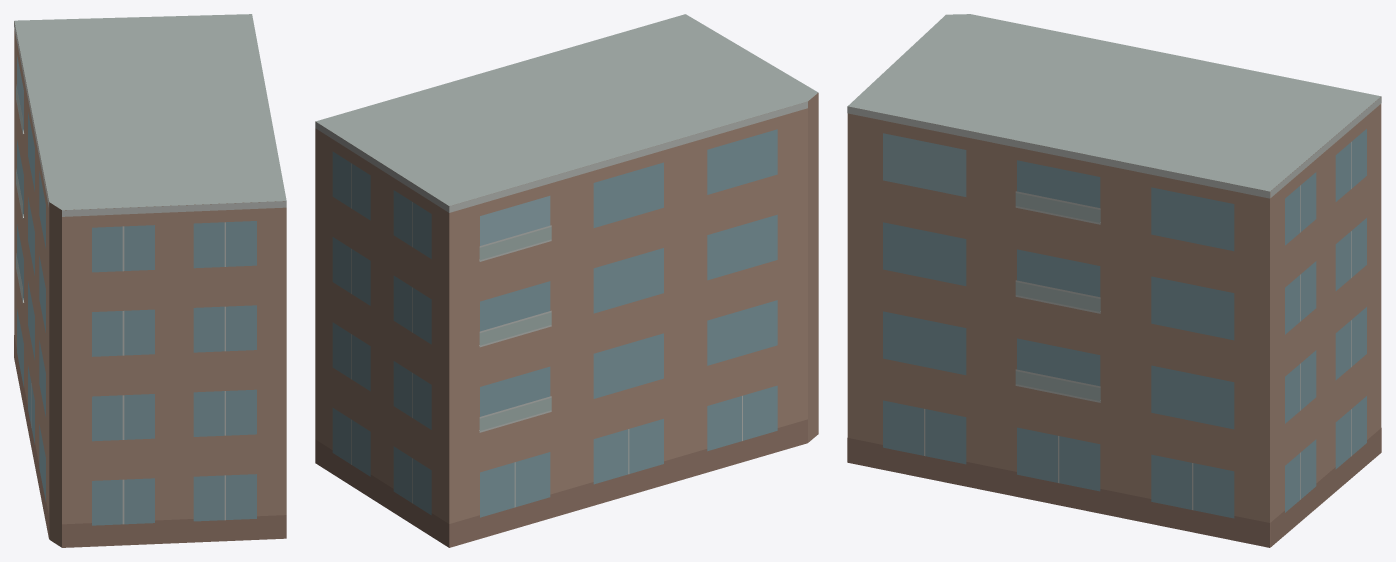
File: survey-upis-32881236.glb
The picture shows the model from 3 angles, left to right: view 1: azimuth 30°, elevation 25°; view 2: azimuth 150°, elevation 25°; view 3: azimuth 270°, elevation 25°; orthographic projection. The views are drawn at different scales.
Visible parts, largest first — view 1: survey-upis-32881236.tmp; view 2: survey-upis-32881236.tmp; view 3: survey-upis-32881236.tmp.
Boxes of the visible parts, x1,y1,x2,y2 form: survey-upis-32881236.tmp: (14,14,286,547); survey-upis-32881236.tmp: (315,14,818,547); survey-upis-32881236.tmp: (847,14,1381,547).
Size of the model in its own units: 13.15 by 12.3 by 16.71.
